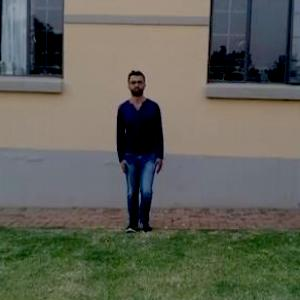follow: (115, 68, 167, 233)
